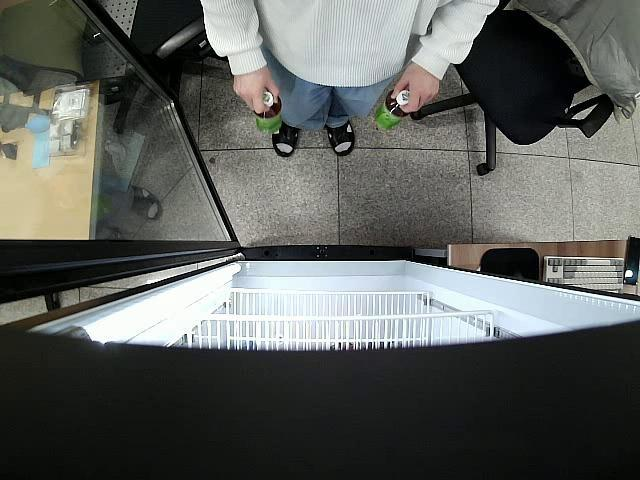19_17cha: (374, 90, 410, 131), (254, 90, 283, 136)
